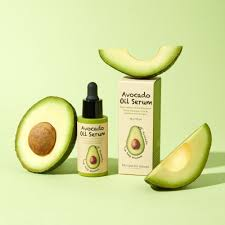avocado: (15, 95, 77, 174)
